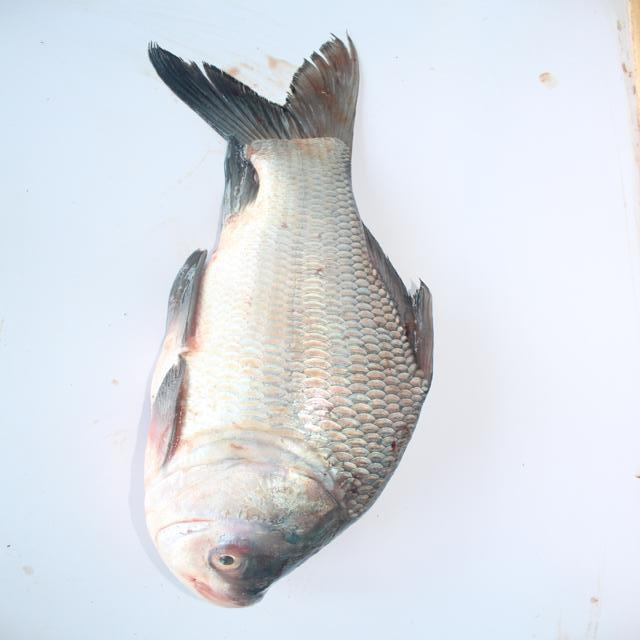Catla: (119, 28, 444, 610)
